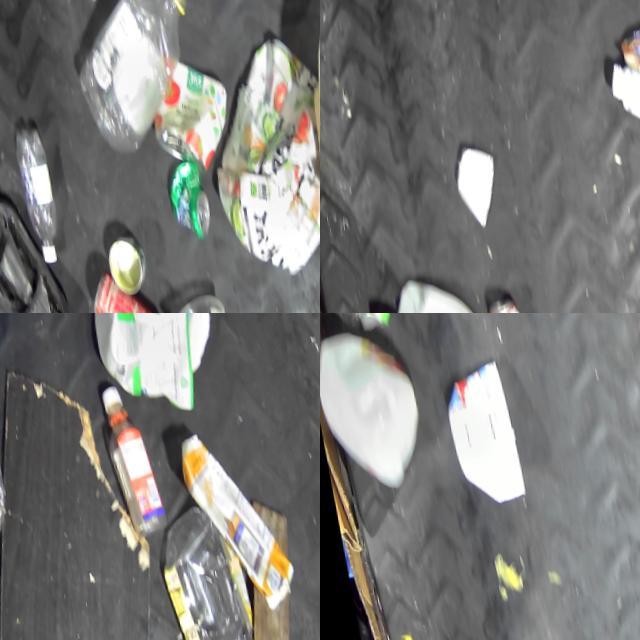can: (137, 60, 231, 178), (91, 233, 144, 309), (159, 162, 206, 245), (79, 270, 156, 313), (472, 278, 533, 313)
milk_jug: (320, 316, 429, 498), (289, 0, 320, 225), (378, 259, 507, 313)
plastic_bottle: (56, 0, 210, 166), (150, 521, 259, 640), (1, 127, 62, 270)
